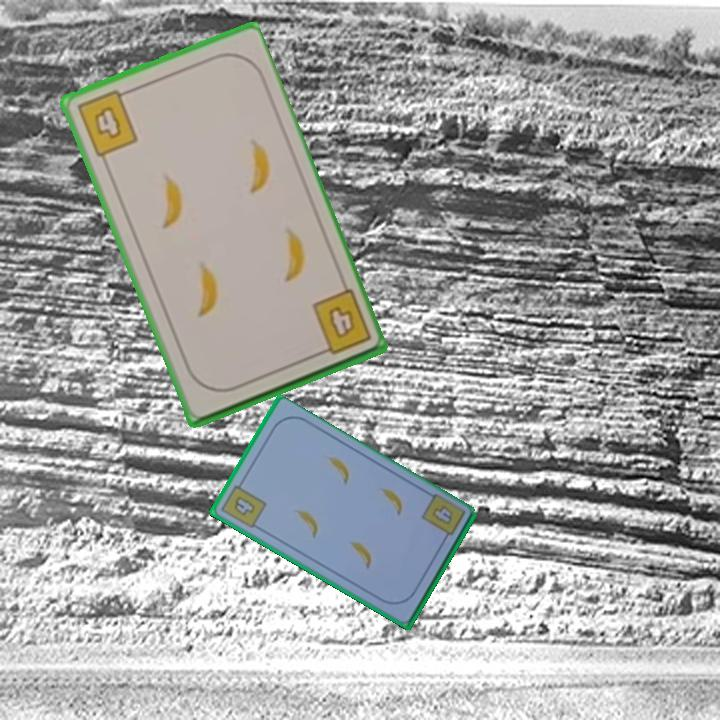4b: (73, 85, 141, 160), (308, 286, 374, 359), (217, 477, 269, 531), (428, 502, 456, 528)
